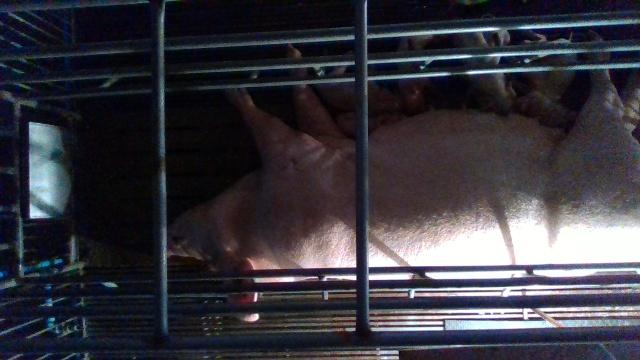piglet: (450, 30, 517, 116), (313, 51, 401, 112), (522, 30, 577, 102), (398, 37, 430, 117)
sow-sleep-lactate: (171, 46, 640, 321)
